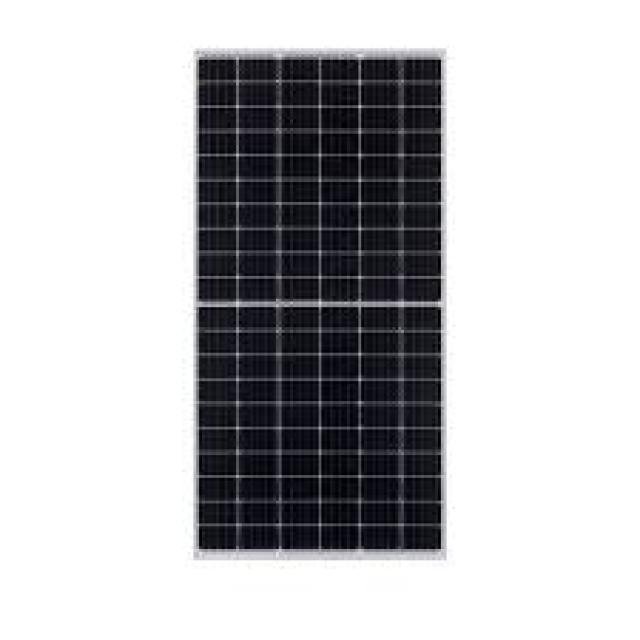Solar: (200, 59, 444, 549)
